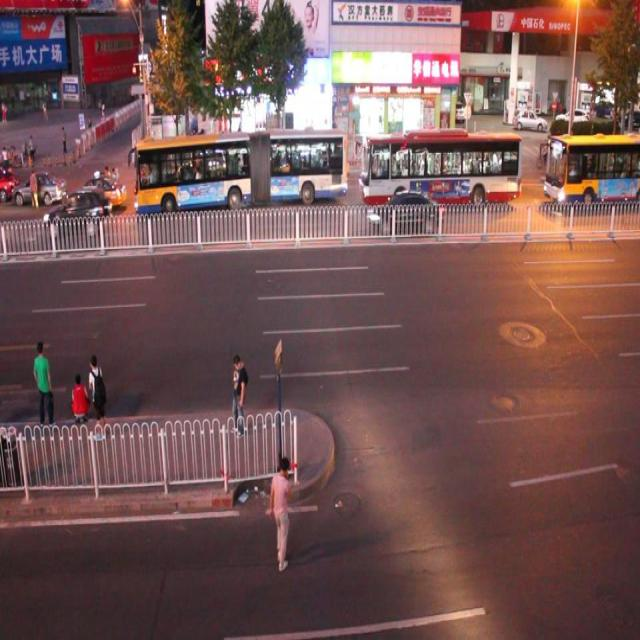car: (43, 186, 105, 237), (372, 187, 442, 231), (69, 171, 126, 209), (186, 146, 230, 192), (14, 172, 67, 207), (275, 153, 323, 191), (0, 166, 18, 201)
van: (132, 129, 347, 208), (359, 130, 520, 208), (542, 128, 640, 209)
